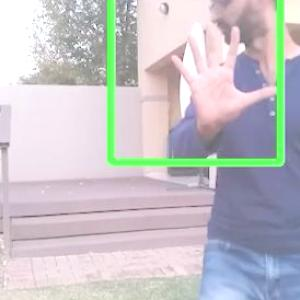follow_hand: (168, 18, 282, 129)
